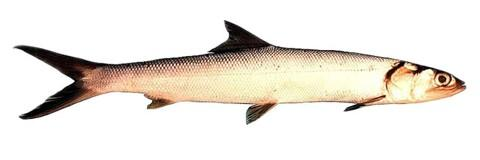Indo-Pacific Tarpon: (11, 20, 465, 128)
